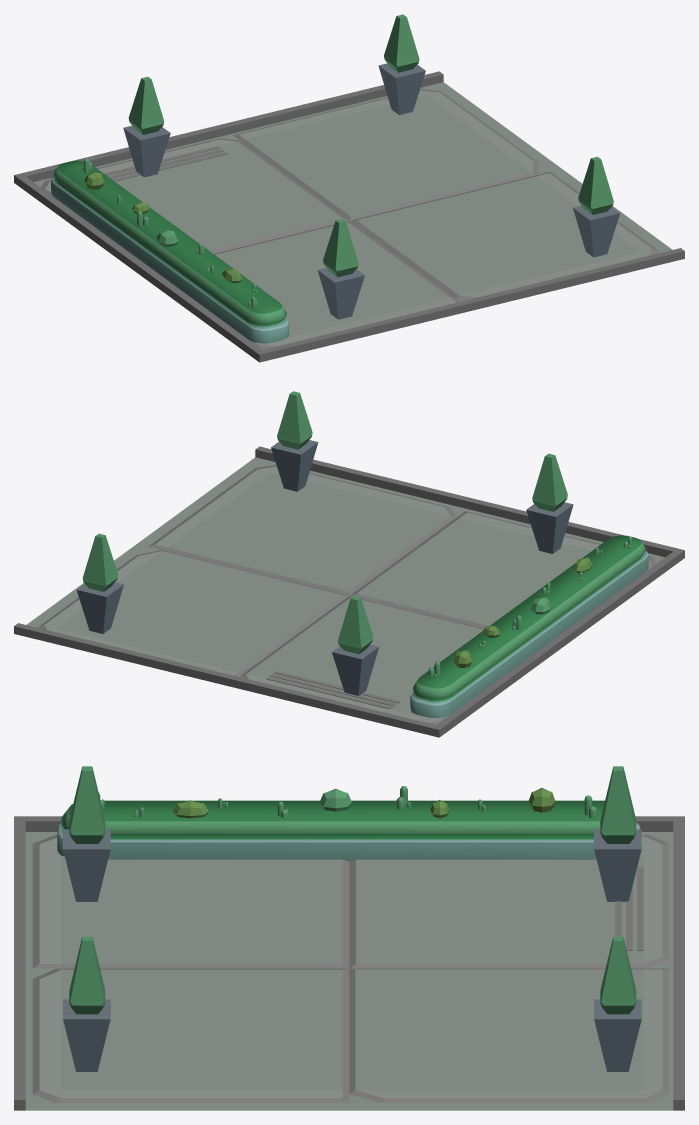
Rendered from DeadEnd_D.gltf.
The picture shows the model from 3 angles, top to bottom: view 1: azimuth 30°, elevation 25°; view 2: azimuth 150°, elevation 25°; view 3: azimuth 270°, elevation 25°; orthographic projection. The views are drawn at different scales.
Visible parts, largest first — view 1: Scifi_Panel_03 Plaza014_group4.024; view 2: Scifi_Panel_03 Plaza014_group4.024; view 3: Scifi_Panel_03 Plaza014_group4.024.
Boxes of the visible parts, x1,y1,x2,y2 form: Scifi_Panel_03 Plaza014_group4.024: (14,14,684,362); Scifi_Panel_03 Plaza014_group4.024: (14,391,684,737); Scifi_Panel_03 Plaza014_group4.024: (14,766,684,1110).
Size of what is drawn, in the model's own units: 10 by 2.2 by 10.
Materials: 1 (1 with a texture image).
